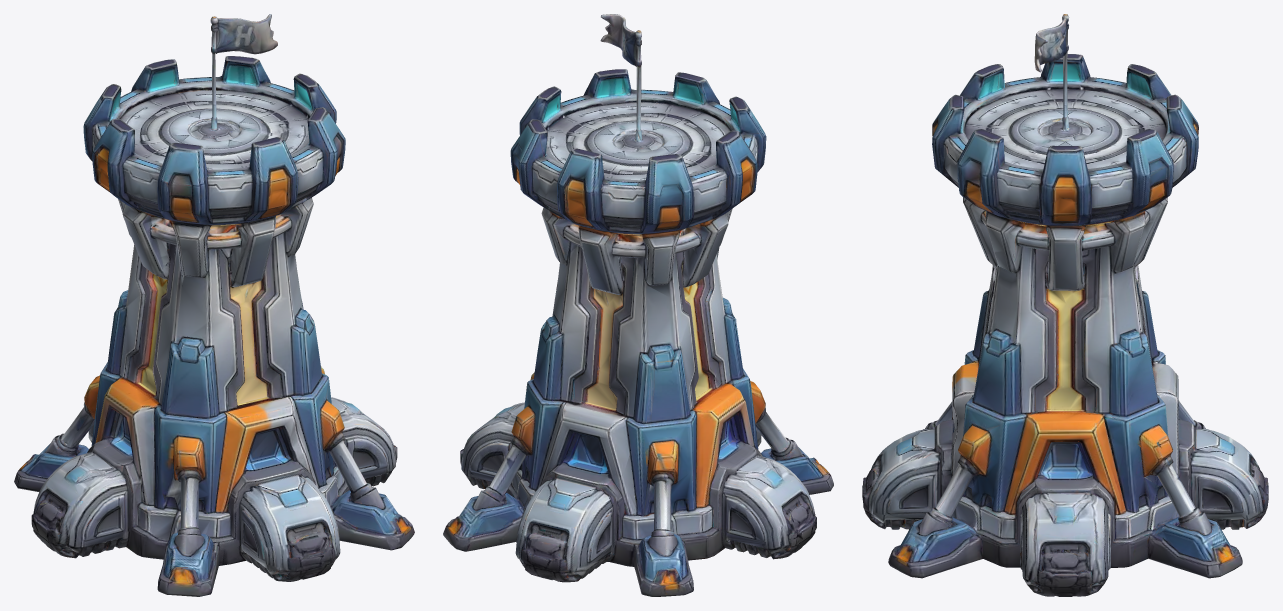
Rendered from rua.glb.
3 renders of one model, left to right at view 1: azimuth 30°, elevation 25°; view 2: azimuth 150°, elevation 25°; view 3: azimuth 270°, elevation 25°, orthographic. The views are drawn at different scales.
Parts seen in each view (by area): view 1: Mesh_0; view 2: Mesh_0; view 3: Mesh_0.
Part boxes in pixels (<box>): Mesh_0: <box>14,14,414,596</box>; Mesh_0: <box>443,14,833,596</box>; Mesh_0: <box>862,14,1268,596</box>.
Bounding box in the file's own units: 1.4 × 1.91 × 1.4.
Materials: 1 (1 with a texture image).
